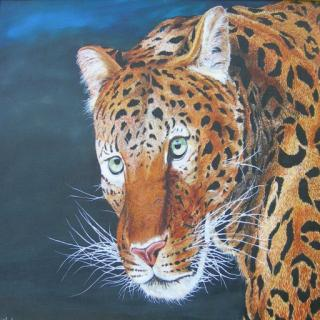Leopard: (62, 1, 320, 320)
